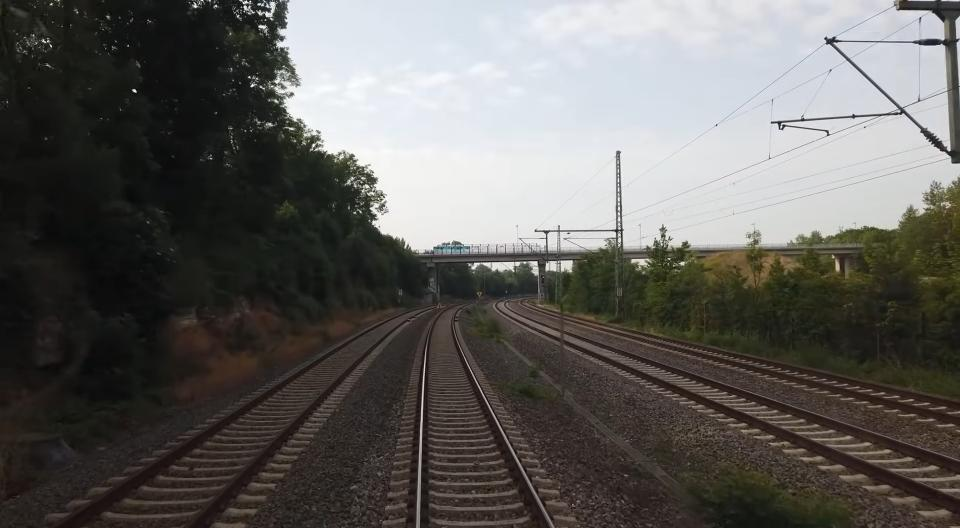Plant: (688, 467, 858, 528), (503, 382, 555, 400), (472, 319, 503, 341), (528, 366, 539, 377)
